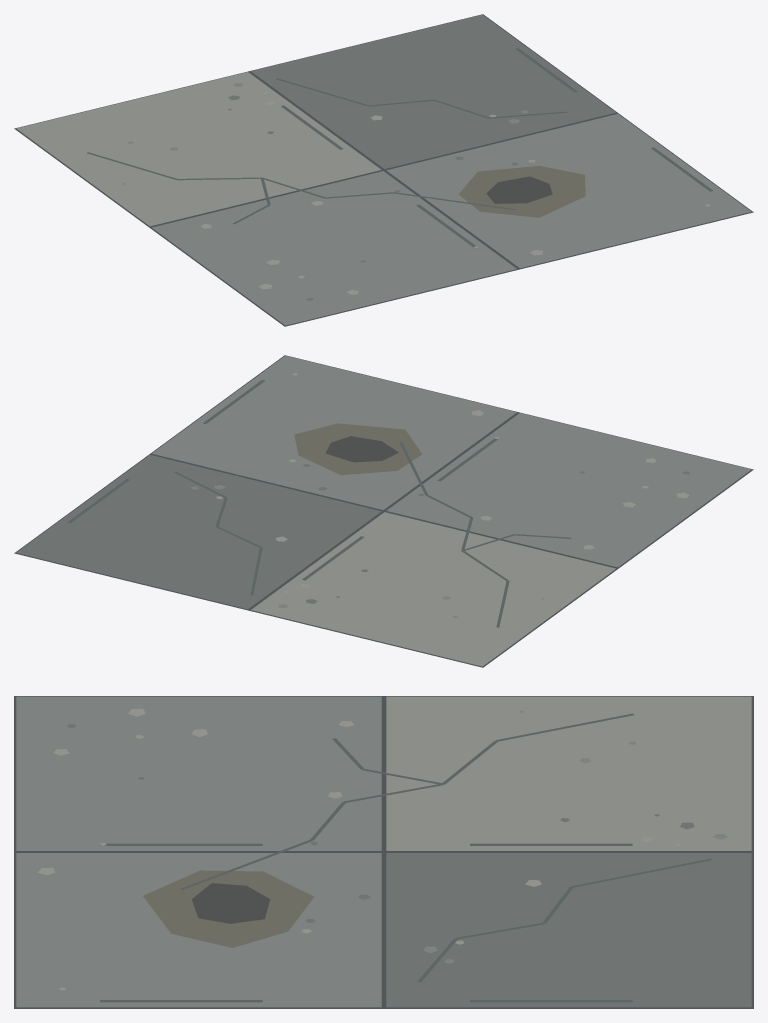
File: 02_Concrete_Cracked.fbx
3 views of the same model, one above another, from view 1: azimuth 30°, elevation 25°; view 2: azimuth 150°, elevation 25°; view 3: azimuth 270°, elevation 25° (orthographic). The views are drawn at different scales.
Parts seen in each view (by area): view 1: 02_Concrete_Cracked; view 2: 02_Concrete_Cracked; view 3: 02_Concrete_Cracked.
Boxes of the visible parts, left/top/right/bottom form: 02_Concrete_Cracked: left=14, top=14, right=753, bottom=326; 02_Concrete_Cracked: left=14, top=355, right=753, bottom=667; 02_Concrete_Cracked: left=14, top=696, right=753, bottom=1008.
Bounding box in the file's own units: 800 × 1.7 × 800.
Materials: 1 (1 with a texture image).
